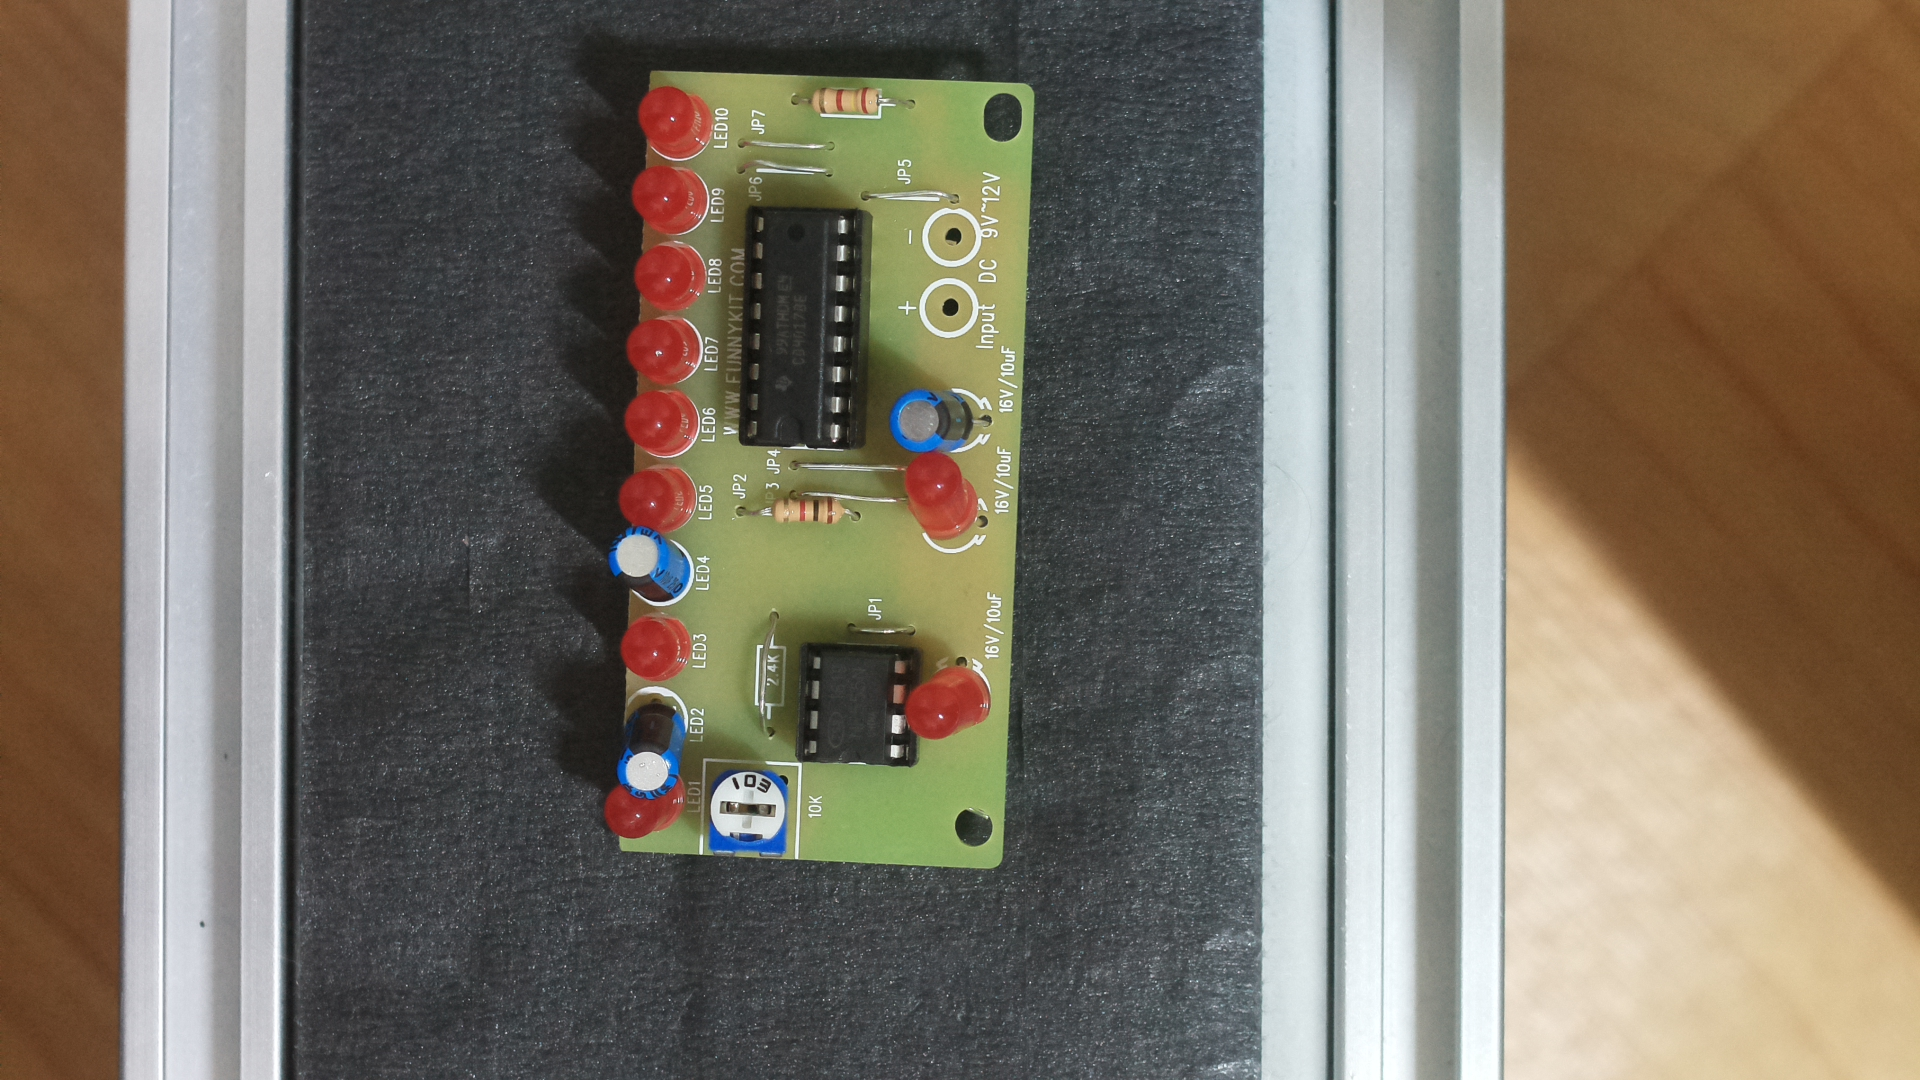B_Misordered: (591, 55, 1051, 877)
